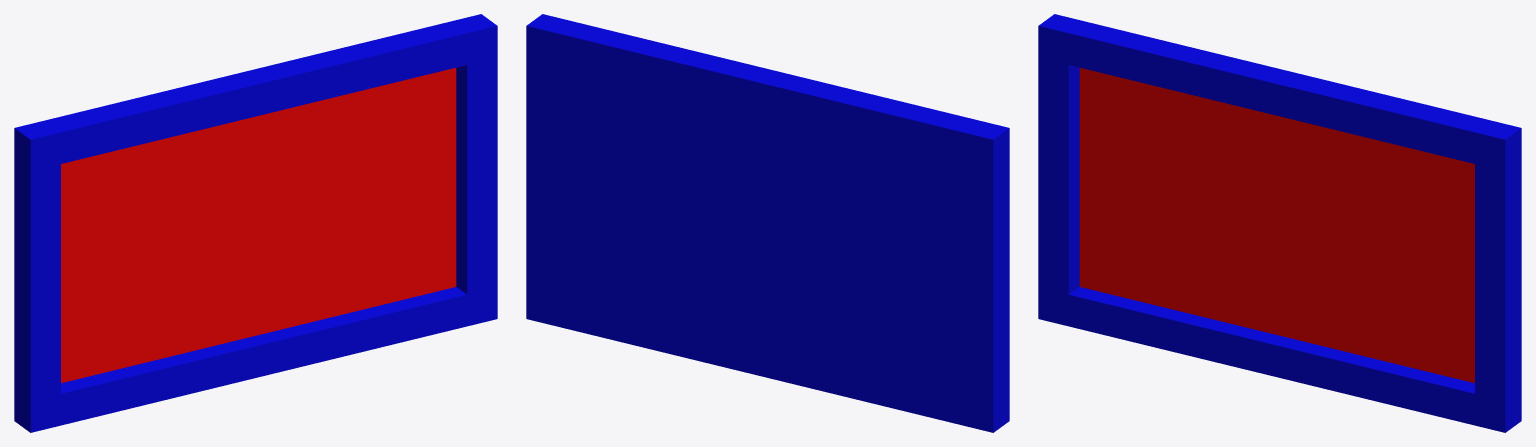
File: Painting1.fbx
3 renders of one model, left to right at view 1: azimuth 30°, elevation 25°; view 2: azimuth 150°, elevation 25°; view 3: azimuth 330°, elevation 25°, orthographic.
Parts seen in each view (by area): view 1: Cuadro1; view 2: Cuadro1; view 3: Cuadro1.
Part boxes in pixels (x1,y1,x2,y2): Cuadro1: (14,14,497,432); Cuadro1: (526,14,1009,432); Cuadro1: (1038,14,1521,432).
Bounding box in the file's own units: 0.5 × 0.3 × 0.03.
